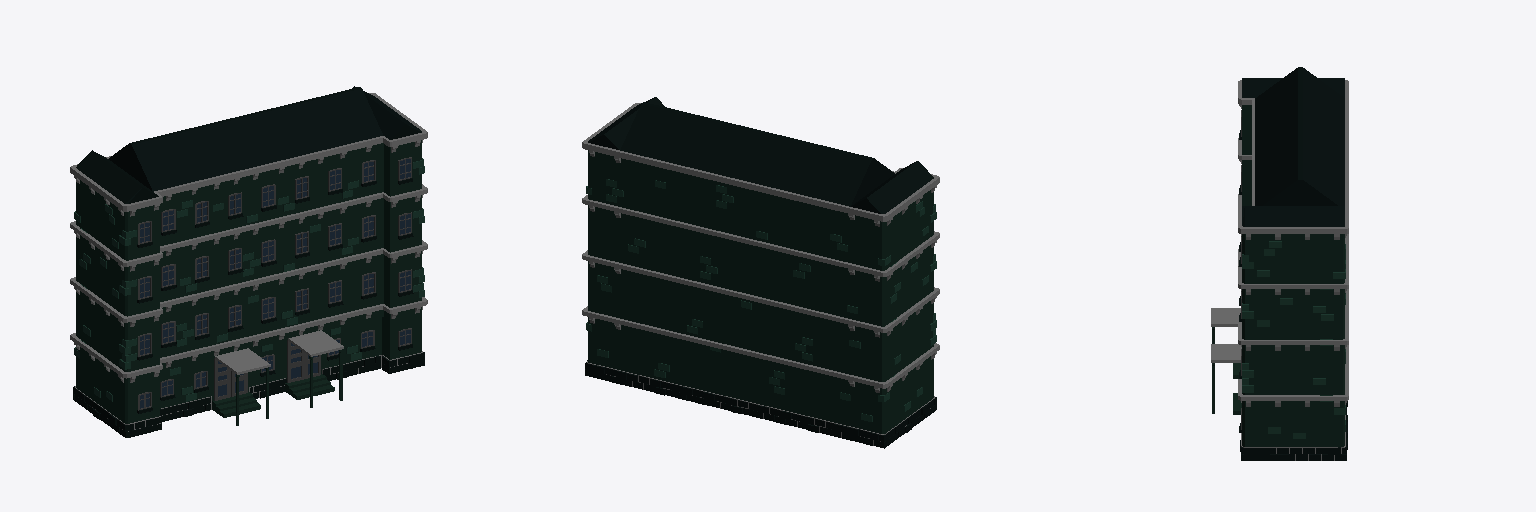
Rendered from 4Story_Wide_2Doors_Roof_Mat.obj.
The picture shows the model from 3 angles: view 1: azimuth 30°, elevation 25°; view 2: azimuth 150°, elevation 25°; view 3: azimuth 270°, elevation 25°; orthographic projection.
Parts seen in each view (by area): view 1: 4Story_Wide_2Doors_Roof_Mat_Cube.004; view 2: 4Story_Wide_2Doors_Roof_Mat_Cube.004; view 3: 4Story_Wide_2Doors_Roof_Mat_Cube.004.
Boxes of the visible parts, box(x1,y1,x2,y2) form: 4Story_Wide_2Doors_Roof_Mat_Cube.004: box(70, 86, 427, 437); 4Story_Wide_2Doors_Roof_Mat_Cube.004: box(582, 97, 939, 448); 4Story_Wide_2Doors_Roof_Mat_Cube.004: box(1211, 67, 1348, 460).
Bounding box in the file's own units: 6.83 × 5.68 × 2.7.